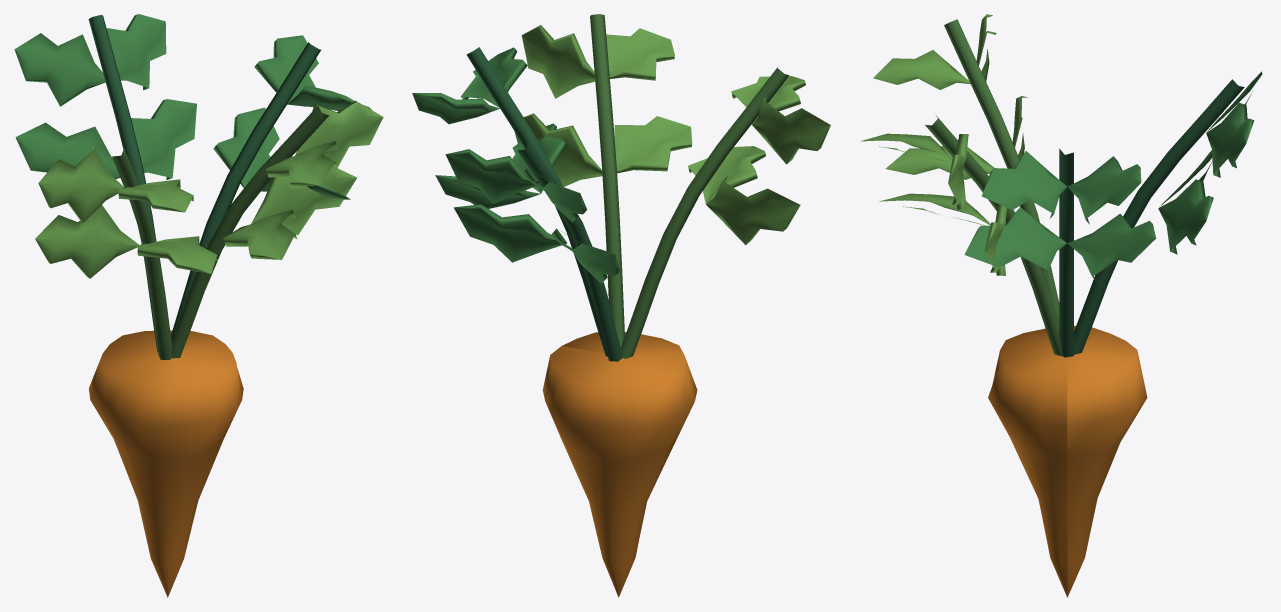
Rendered from zanahoria_1.glb.
3 views of the same model, side by side, from view 1: azimuth 30°, elevation 25°; view 2: azimuth 150°, elevation 25°; view 3: azimuth 270°, elevation 25° (orthographic). The views are drawn at different scales.
Visible parts, largest first — view 1: zanahoria_1_penacho_0; view 2: zanahoria_1_penacho_0; view 3: zanahoria_1_penacho_0.
Part boxes in pixels (bbox=[...]): zanahoria_1_penacho_0: bbox=[14, 14, 383, 597]; zanahoria_1_penacho_0: bbox=[412, 14, 830, 597]; zanahoria_1_penacho_0: bbox=[860, 14, 1262, 597].
Size of the model in its own units: 0.2094 by 0.2988 by 0.2095.
